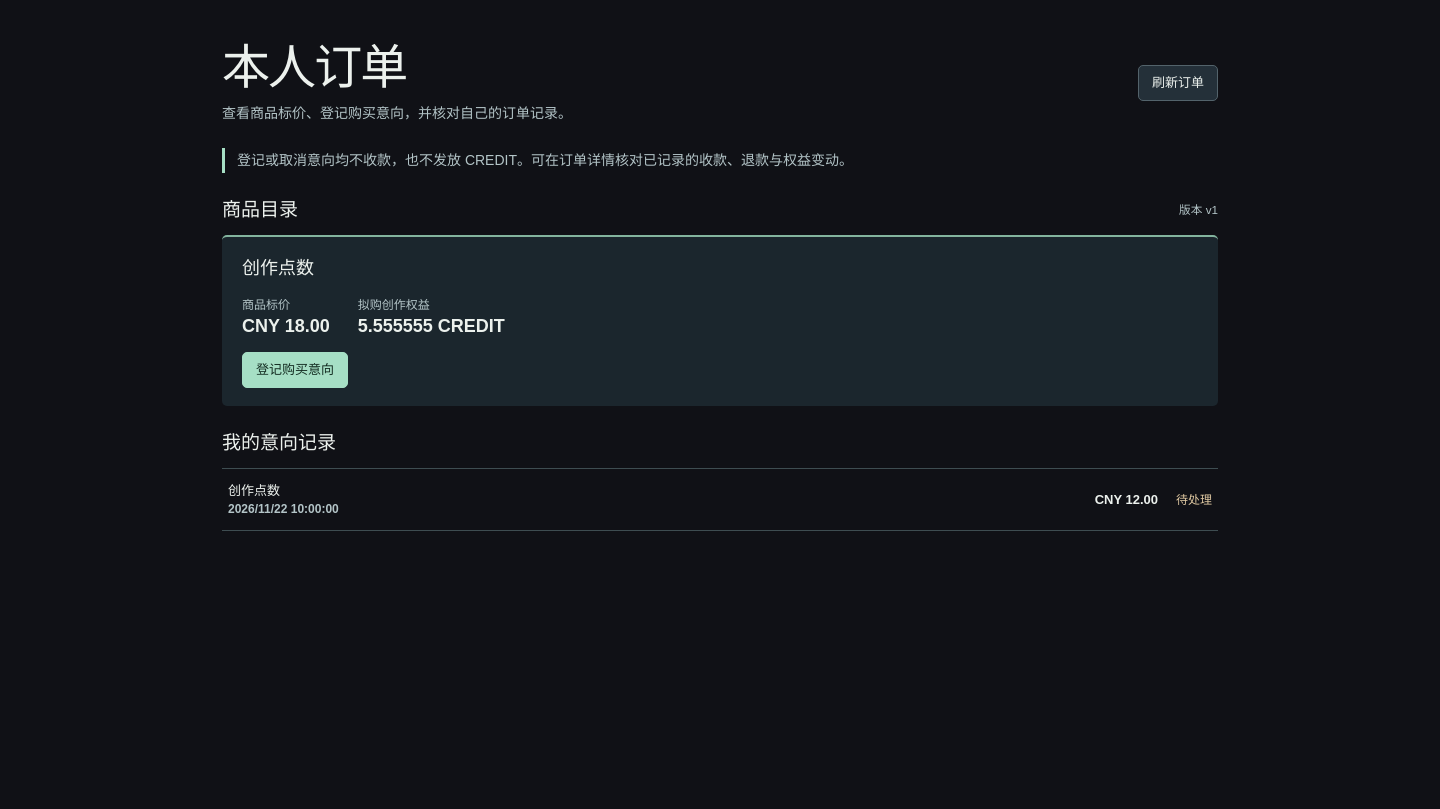
Test: reads frozen money and posted CREDIT independently from the current catalog, in an account-only GET
Click the button "创作点数 2026/11/22 10:00:00 CNY 12.00 待处理".
click(254, 490)  # box 222,469 -> 1218,530
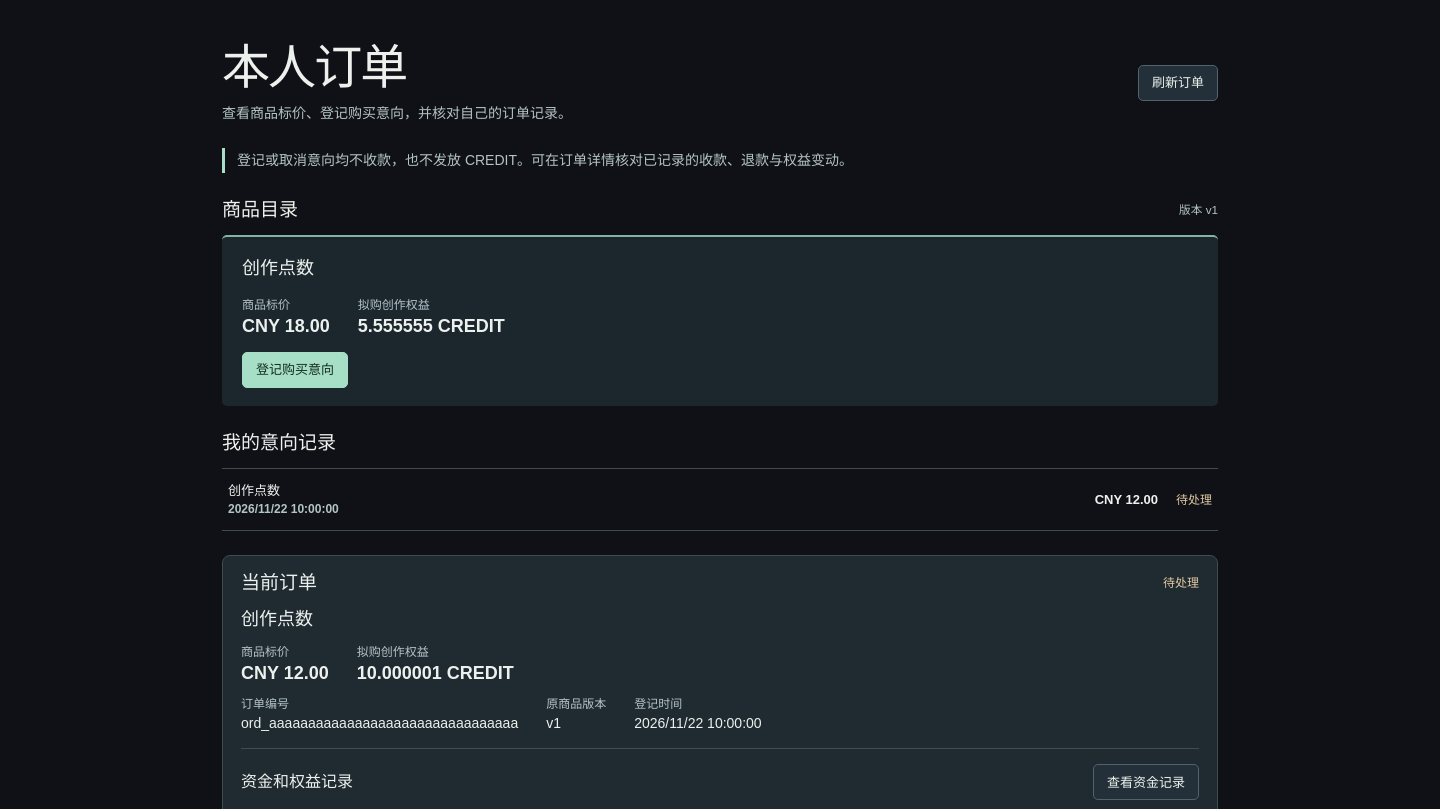
Now the button "查看资金记录" is shown
Now the button "查看资金记录" is enabled
Click the button "查看资金记录".
click(1146, 782)  # box 1093,764 -> 1199,800
(page scrolled)
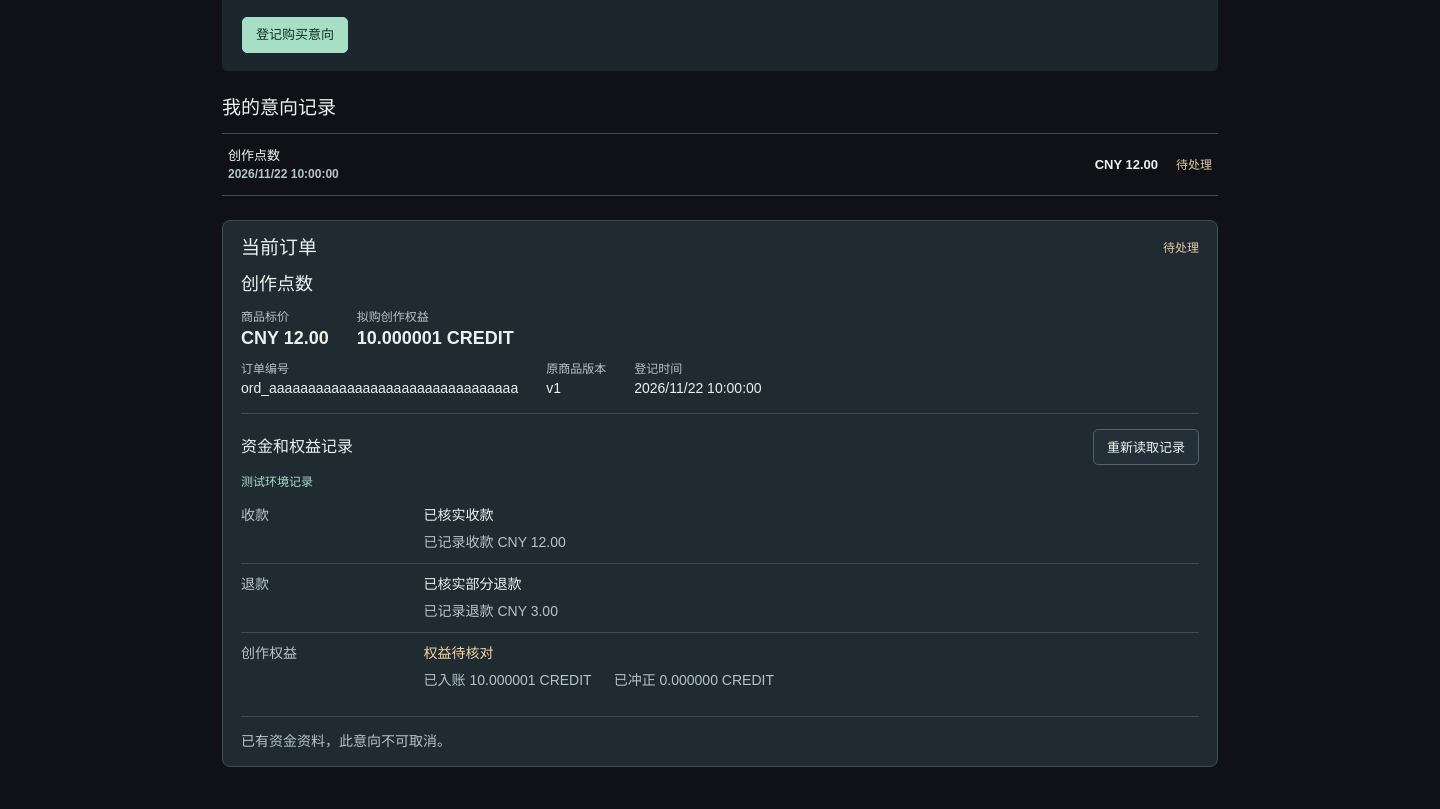
Now the element that starts with "测试环境记录" is shown, box 241,475 -> 313,489
Now the element that starts with "测试环境记录" shows "已记录收款 CNY 12.00", box 241,473 -> 1199,701
Now the element that starts with "测试环境记录" shows "已记录退款 CNY 3.00", box 241,473 -> 1199,701
